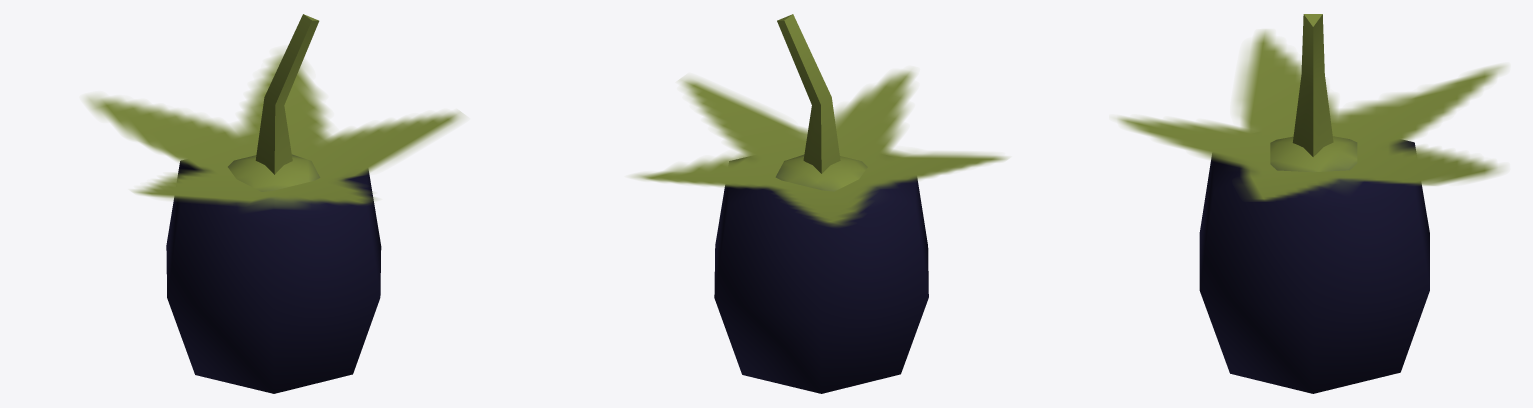
Rendered from Blackberry.glb.
3 views of the same model, side by side, from view 1: azimuth 30°, elevation 25°; view 2: azimuth 150°, elevation 25°; view 3: azimuth 270°, elevation 25° (orthographic). The views are drawn at different scales.
Parts seen in each view (by area): view 1: Blackberry; view 2: Blackberry; view 3: Blackberry.
Part boxes in pixels (x1,y1,x2,y2): Blackberry: (85,14,463,393); Blackberry: (631,14,1007,393); Blackberry: (1116,14,1506,393).
Size of the model in its own units: 0.1656 by 0.1734 by 0.1656.
1 material, 1 textured.
